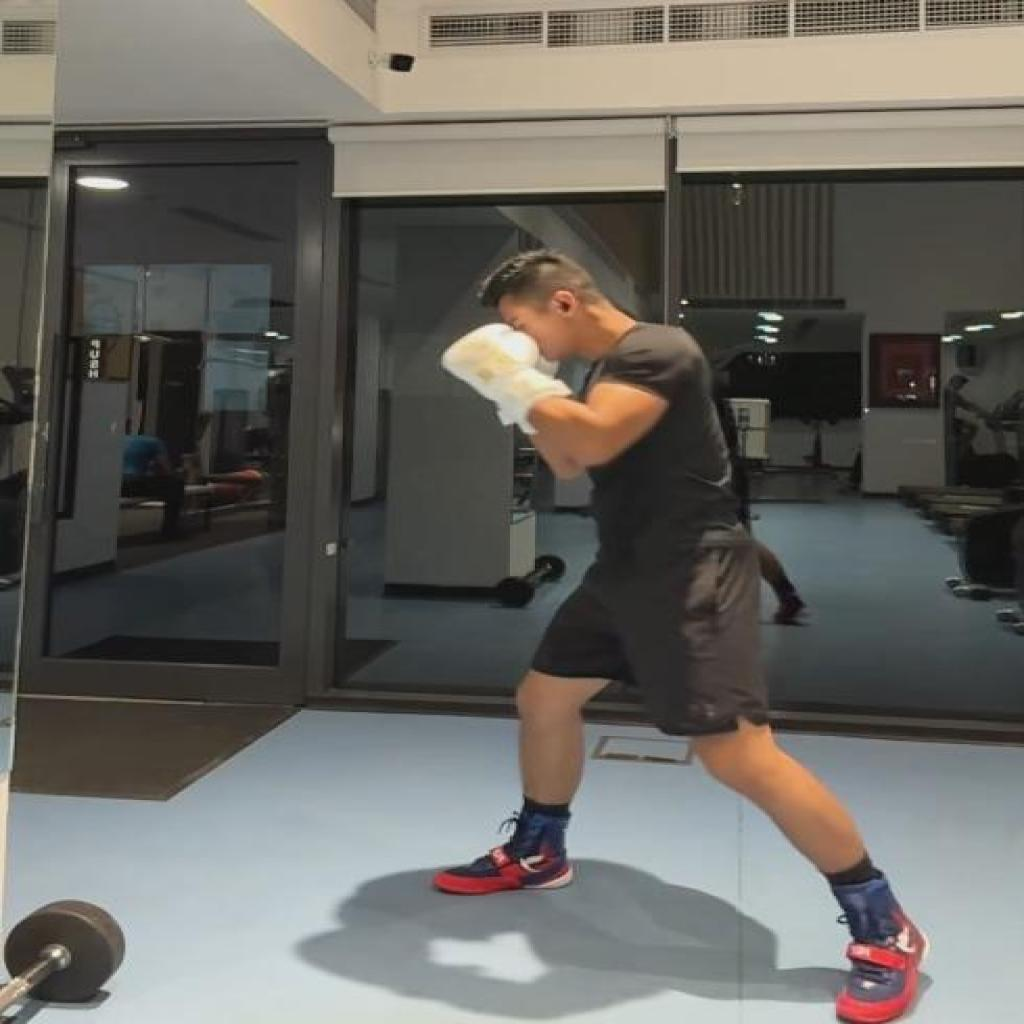no punch: (428, 245, 936, 1024)
